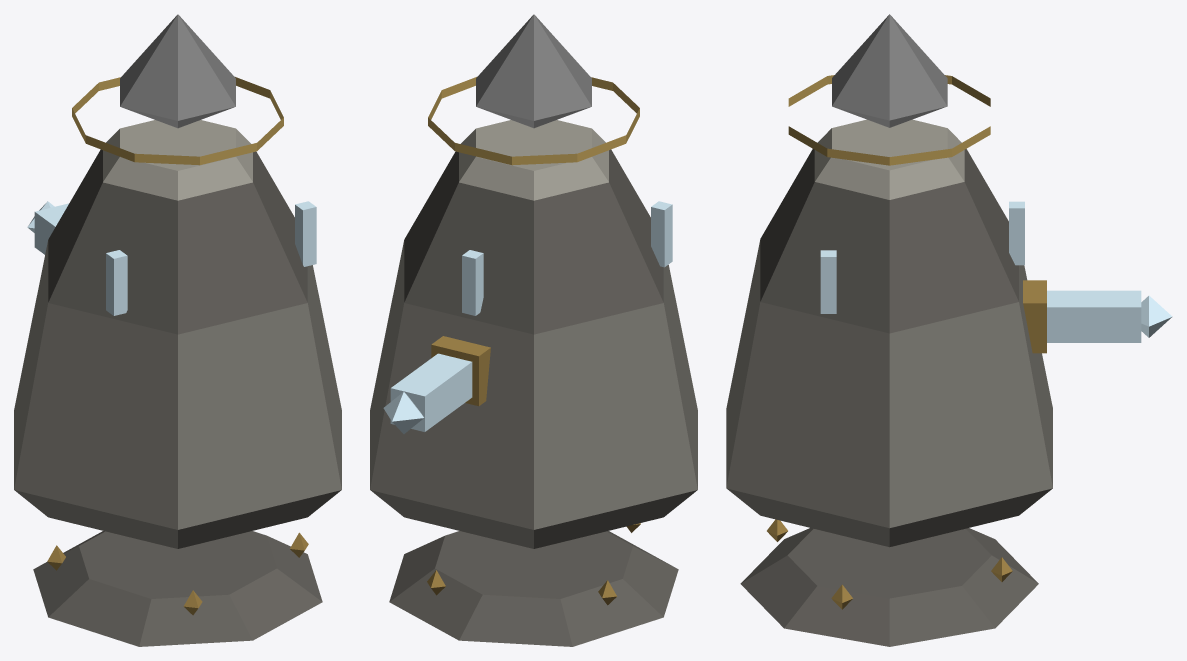
The model's file is ward-astro.obj.
3 renders of one model, left to right at view 1: azimuth 30°, elevation 25°; view 2: azimuth 150°, elevation 25°; view 3: azimuth 270°, elevation 25°, orthographic.
Visible parts, largest first — view 1: ward-astro; view 2: ward-astro; view 3: ward-astro.
Boxes of the visible parts, bbox=[...] form: ward-astro: bbox=[14, 14, 341, 646]; ward-astro: bbox=[370, 14, 697, 646]; ward-astro: bbox=[726, 14, 1172, 646].
Size of the model in its own units: 4.8 by 8 by 5.68.
